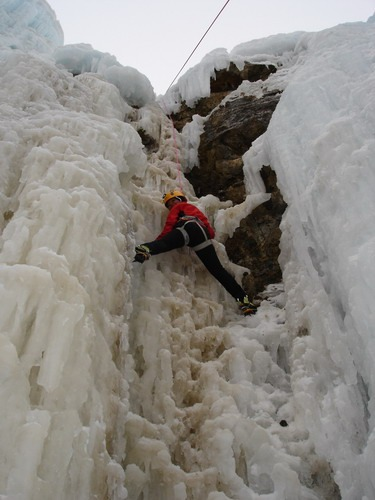helmet: (158, 187, 189, 207)
